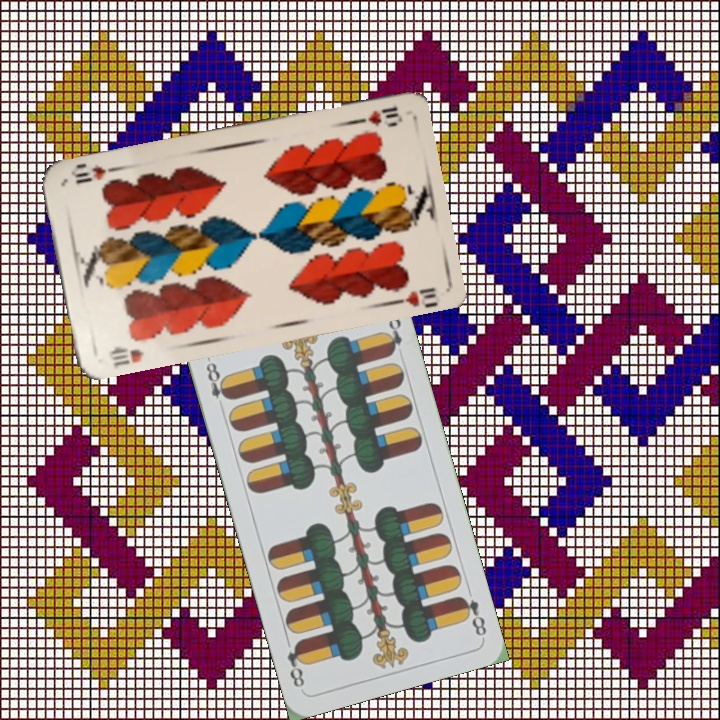E8: (455, 592, 490, 639), (201, 355, 233, 403)
H10: (347, 103, 405, 128), (104, 342, 147, 371)
